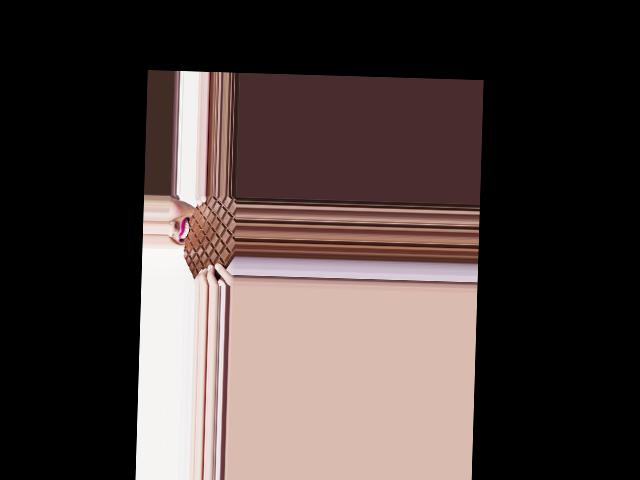chocolate: (180, 195, 236, 286)
